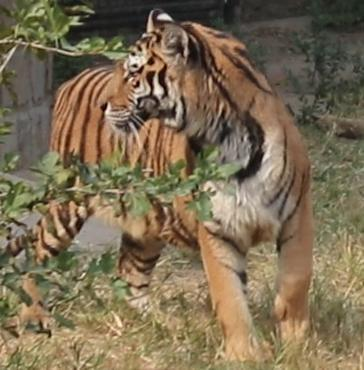tiger: (50, 9, 313, 357)
